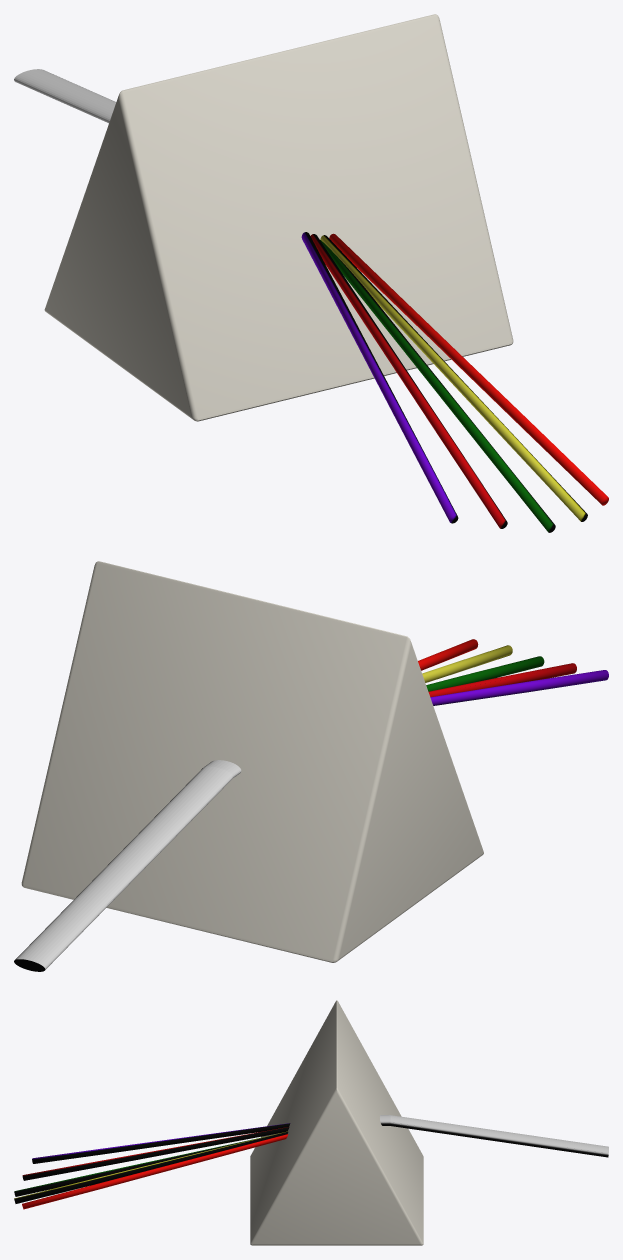
File: Testing.glb
The picture shows the model from 3 angles, top to bottom: view 1: azimuth 30°, elevation 25°; view 2: azimuth 150°, elevation 25°; view 3: azimuth 270°, elevation 25°; orthographic projection. The views are drawn at different scales.
Visible parts, largest first — view 1: Cube, Object001, Object002, Object003, Object004, Object005, Cylinder; view 2: Cube, Cylinder, Object005, Object004, Object003, Object002, Object001; view 3: Cube, Cylinder, Object001, Object004, Object005, Object002, Object003.
Part boxes in pixels (bbox=[...]): Cube: bbox=[44, 14, 513, 421]; Object001: bbox=[329, 233, 608, 505]; Object002: bbox=[320, 235, 587, 521]; Object003: bbox=[320, 240, 555, 532]; Object004: bbox=[310, 234, 507, 528]; Object005: bbox=[301, 232, 458, 523]; Cylinder: bbox=[14, 69, 116, 123]; Cube: bbox=[21, 561, 483, 962]; Cylinder: bbox=[14, 760, 241, 971]; Object005: bbox=[430, 670, 608, 705]; Object004: bbox=[428, 663, 576, 696]; Object003: bbox=[426, 656, 544, 691]; Object002: bbox=[422, 645, 512, 682]; Object001: bbox=[418, 639, 478, 670]; Cube: bbox=[250, 1000, 423, 1245]; Cylinder: bbox=[380, 1115, 608, 1157]; Object001: bbox=[22, 1134, 288, 1209]; Object004: bbox=[22, 1127, 289, 1180]; Object005: bbox=[32, 1123, 290, 1163]; Object002: bbox=[14, 1131, 288, 1203]; Object003: bbox=[14, 1137, 262, 1196].
Size of what is drawn, in the model's own units: 2.42 by 1.99 by 6.79.
7 materials, 5 textured.
